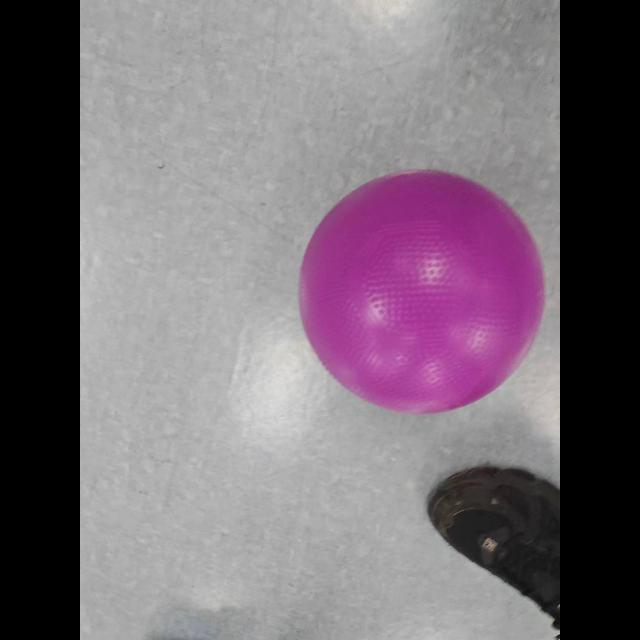P: (288, 162, 552, 418)
